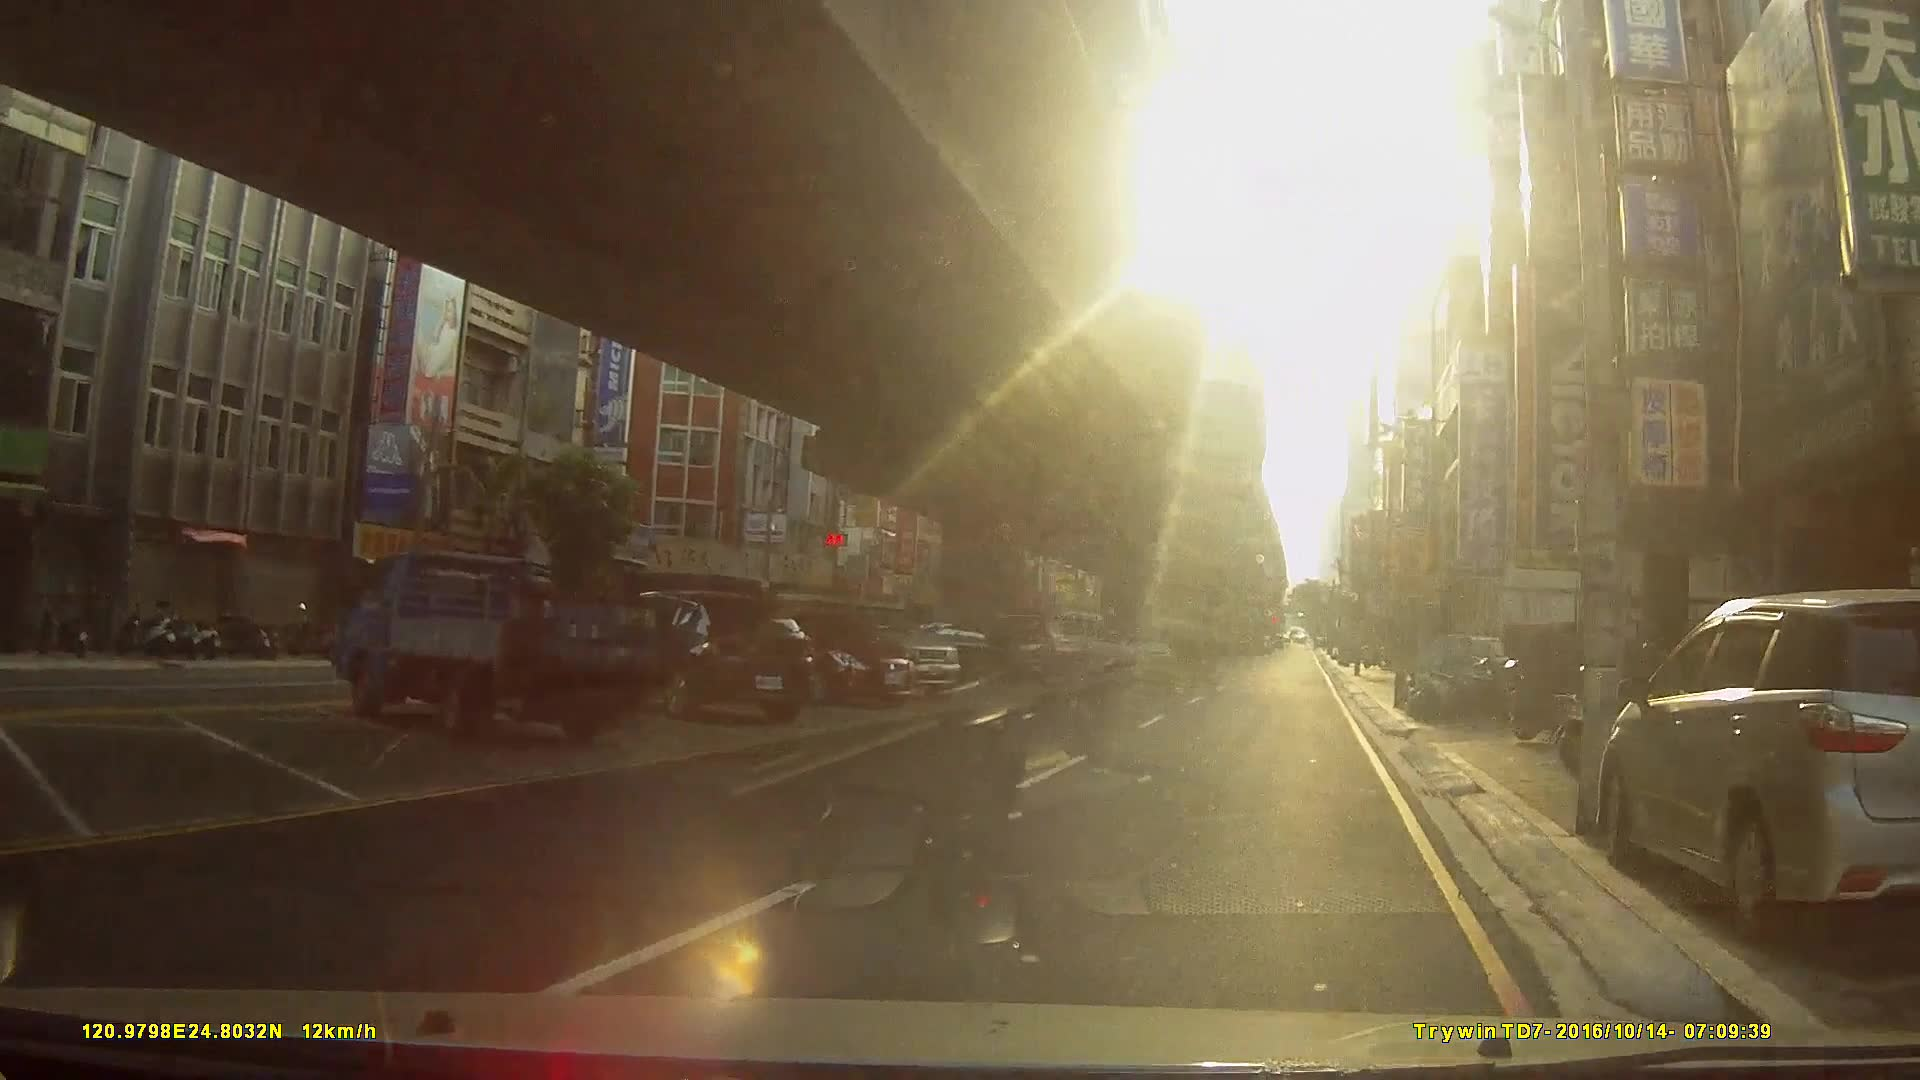vehicle: (1596, 585, 1919, 936), (331, 549, 670, 744), (603, 588, 814, 721), (735, 604, 913, 705), (891, 620, 1042, 682)
